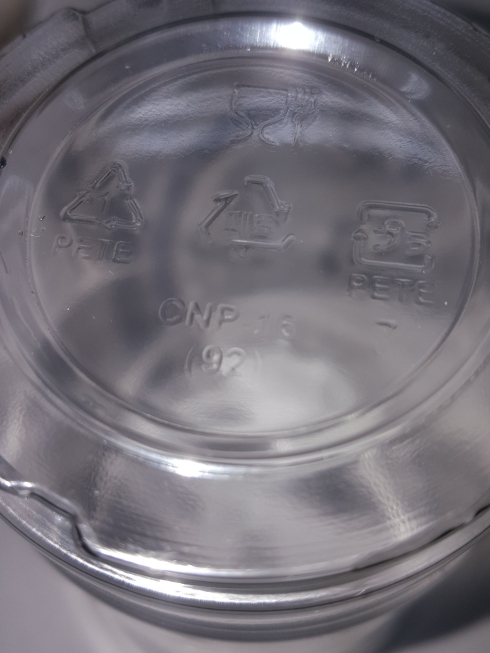recycle: (53, 131, 152, 273)
